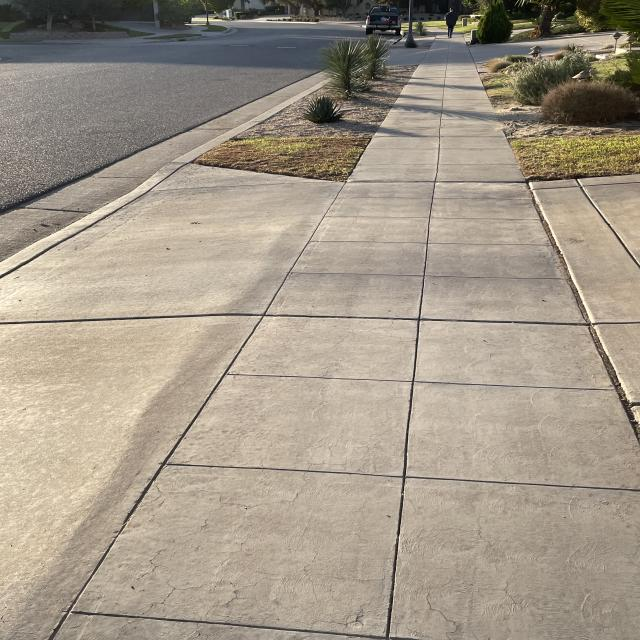curb: (55, 146, 196, 226), (168, 92, 304, 166), (15, 205, 130, 270)
road: (4, 40, 179, 166), (91, 35, 276, 96), (186, 32, 326, 68)
walkway: (134, 513, 636, 640), (193, 432, 636, 540), (269, 315, 585, 427), (330, 216, 558, 324), (370, 140, 491, 197), (404, 86, 484, 135)
walkway-edge: (506, 121, 575, 277), (470, 51, 545, 190), (184, 153, 359, 190), (353, 112, 392, 190), (396, 51, 426, 128)
